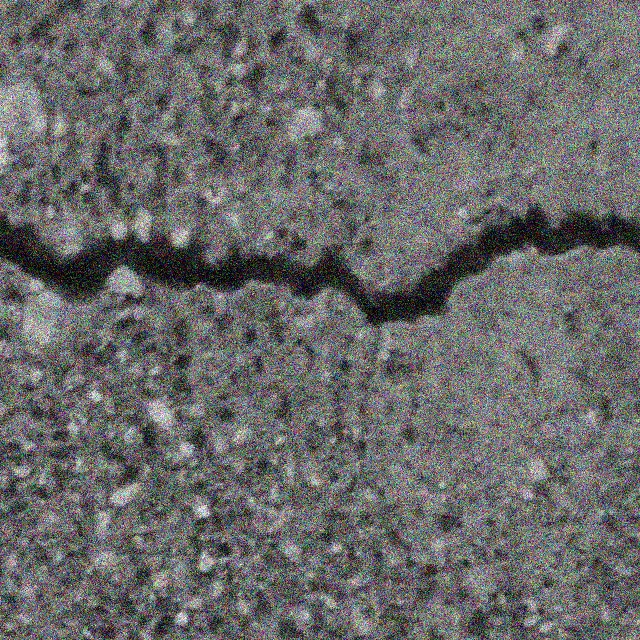SurfaceCrack: (0, 148, 639, 383)
